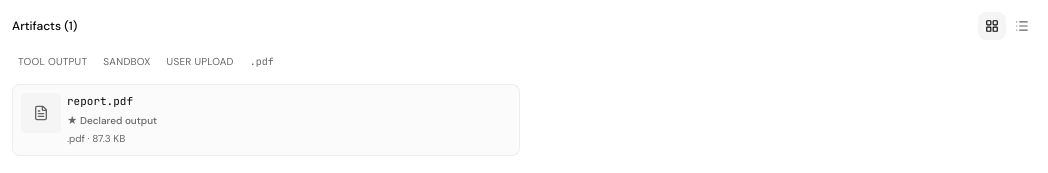
Test: <ArtifactsPanel /> › badges declared outputs from agent.output_declared
The image size is (1048, 173).
Expected: the text "report.pdf" is shown, [67, 94, 133, 108]
Expected: the text "★ Declared output" is shown, [67, 114, 157, 127]
Click the button named "List view" at point(1022, 26), box [1008, 12, 1036, 40]
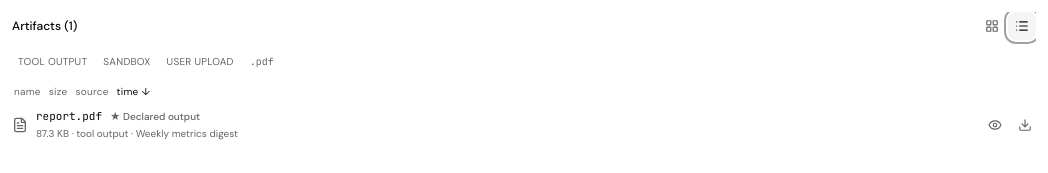
Expected: the text "87.3 KB · tool output · Weekly metrics digest" is shown, [36, 127, 238, 140]
